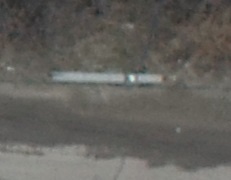opora: (50, 66, 164, 86)
